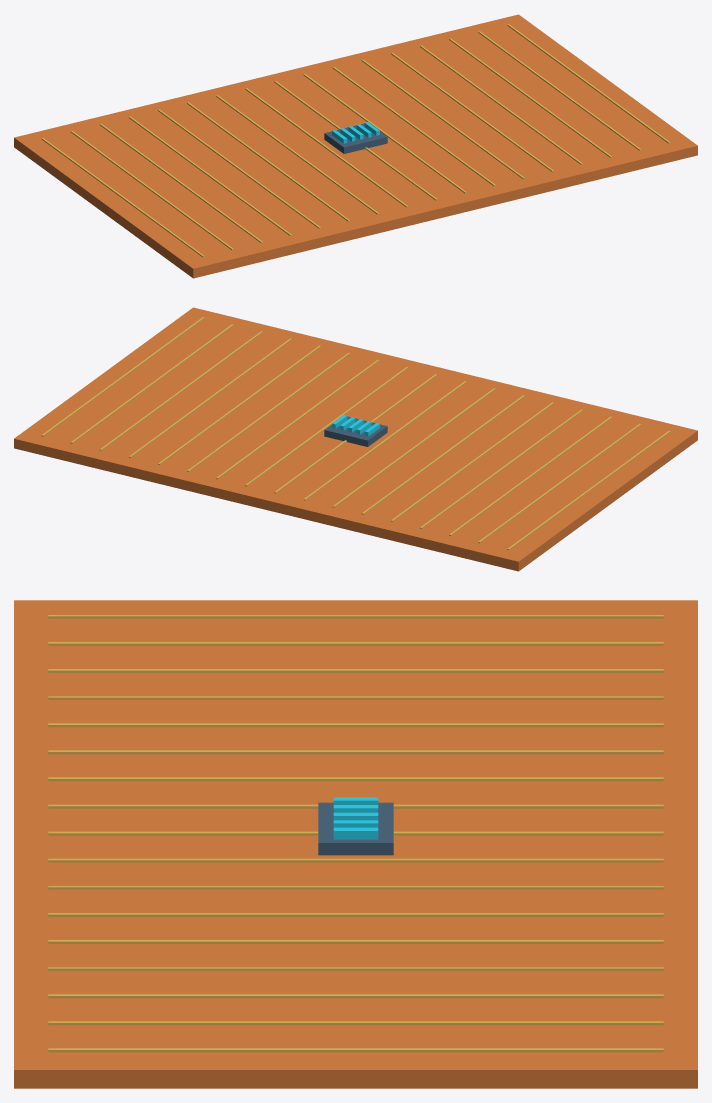
The model's file is 12_L82_ReferenceGroundPlane.fbx.
3 views of the same model, one above another, from view 1: azimuth 30°, elevation 25°; view 2: azimuth 150°, elevation 25°; view 3: azimuth 270°, elevation 25° (orthographic). The views are drawn at different scales.
Parts seen in each view (by area): view 1: ReferenceGroundPlane, ReferenceGroundPlane_Part_0018; view 2: ReferenceGroundPlane, ReferenceGroundPlane_Part_0018; view 3: ReferenceGroundPlane, ReferenceGroundPlane_Part_0018.
Boxes of the visible parts, x1,y1,x2,y2 form: ReferenceGroundPlane: [14, 14, 697, 278]; ReferenceGroundPlane_Part_0018: [324, 123, 387, 153]; ReferenceGroundPlane: [14, 307, 697, 571]; ReferenceGroundPlane_Part_0018: [324, 416, 387, 446]; ReferenceGroundPlane: [14, 600, 697, 1088]; ReferenceGroundPlane_Part_0018: [318, 802, 393, 855].
Bounding box in the file's own units: 650 × 33.5 × 400.
